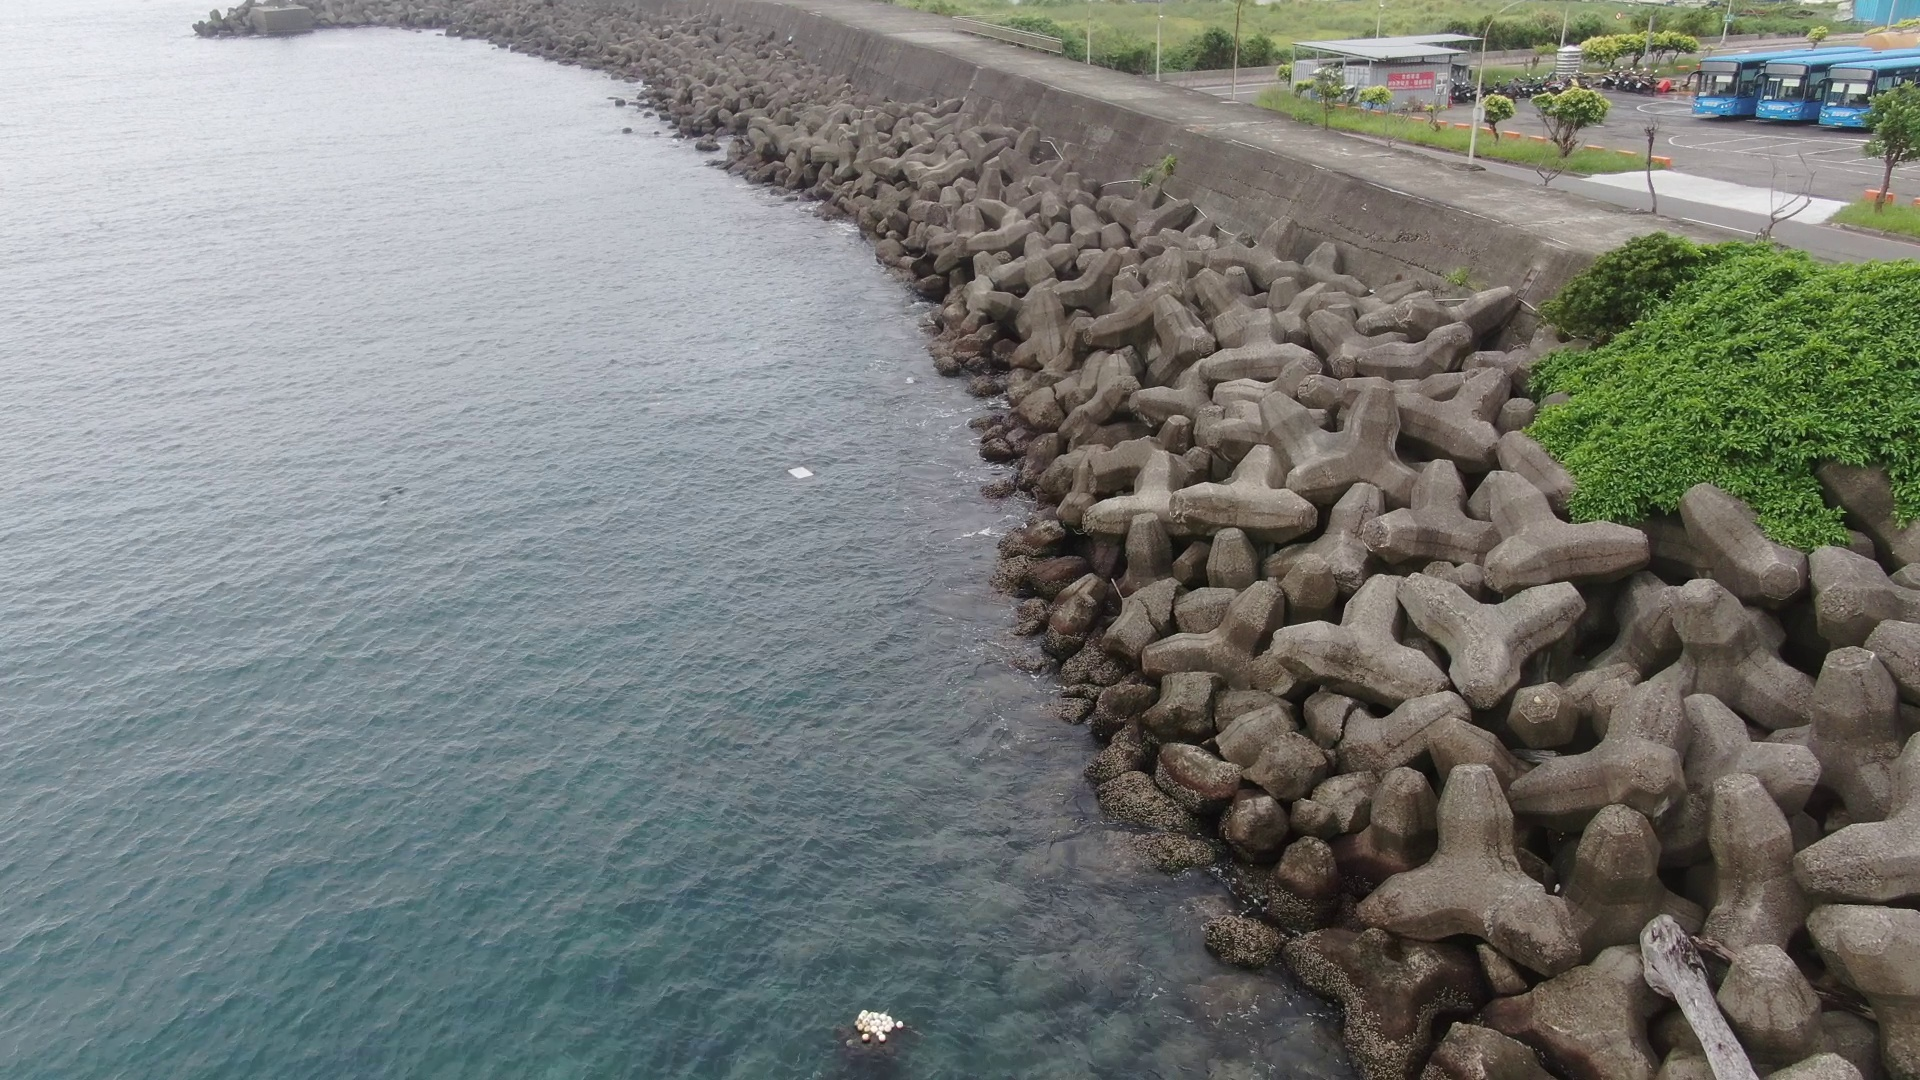garbage: (839, 997, 914, 1043), (781, 458, 812, 479)
